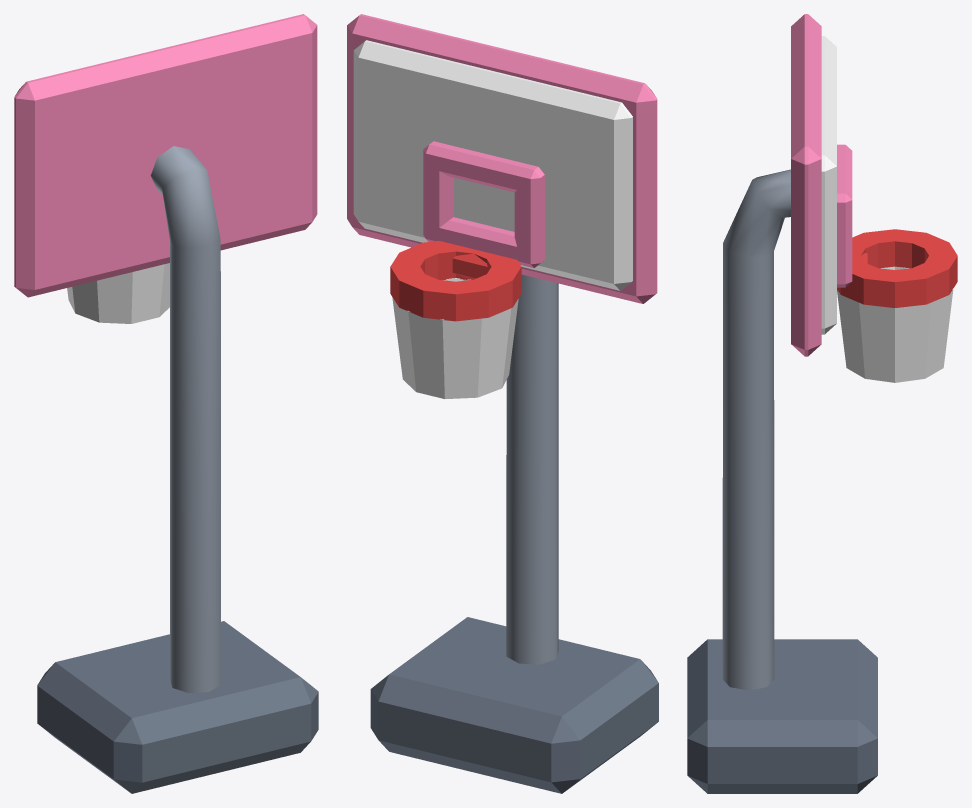
The model's file is Prop_sakura_schoolyard_BasketballHoop.glb.
The picture shows the model from 3 angles, left to right: view 1: azimuth 30°, elevation 25°; view 2: azimuth 150°, elevation 25°; view 3: azimuth 270°, elevation 25°; orthographic projection. The views are drawn at different scales.
Visible parts, largest first — view 1: Sakura_FF8FC0, StoneDark_6B7686, Stone_9AA4B2, White_FFFFFF; view 2: White_FFFFFF, StoneDark_6B7686, Sakura_FF8FC0, Stone_9AA4B2, Rim_F04848; view 3: Stone_9AA4B2, StoneDark_6B7686, White_FFFFFF, Sakura_FF8FC0, Rim_F04848.
Part boxes in pixels (x1,y1,x2,y2): Sakura_FF8FC0: (14, 14, 317, 297); StoneDark_6B7686: (37, 621, 318, 793); Stone_9AA4B2: (150, 146, 220, 692); White_FFFFFF: (67, 263, 169, 323); White_FFFFFF: (353, 40, 632, 398); StoneDark_6B7686: (370, 617, 658, 793); Sakura_FF8FC0: (347, 14, 657, 303); Stone_9AA4B2: (506, 274, 558, 664); Rim_F04848: (390, 241, 521, 321); Stone_9AA4B2: (722, 169, 790, 690); StoneDark_6B7686: (687, 639, 877, 793); White_FFFFFF: (821, 36, 953, 382); Sakura_FF8FC0: (791, 14, 852, 356); Rim_F04848: (837, 229, 957, 307).
Bounding box in the file's own units: 5 × 10.9 × 3.97.
